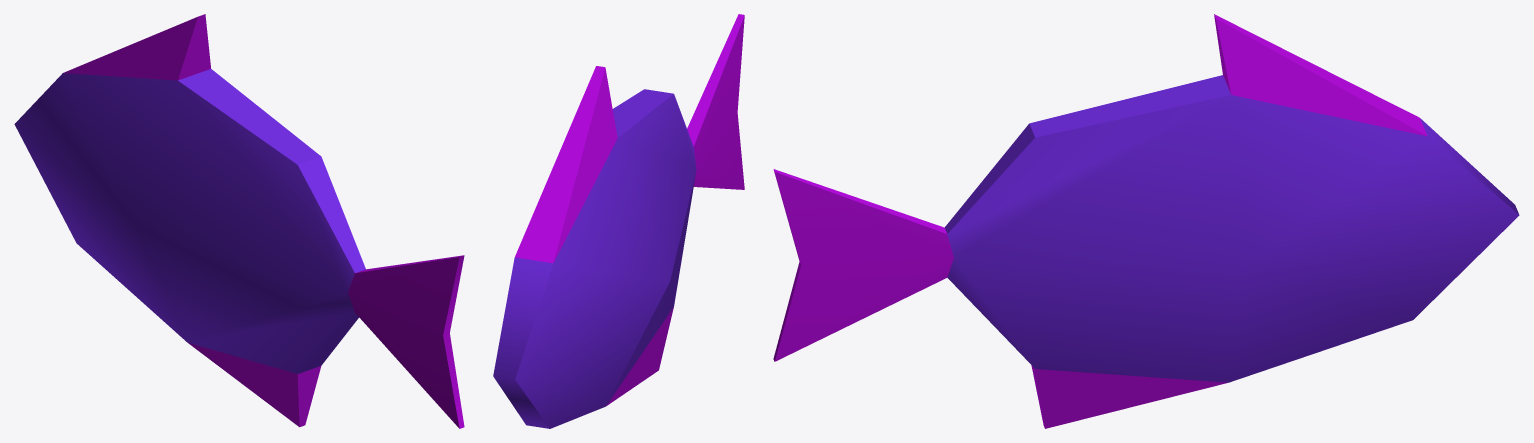
Rendered from fish04.glb.
3 renders of one model, left to right at view 1: azimuth 30°, elevation 25°; view 2: azimuth 150°, elevation 25°; view 3: azimuth 270°, elevation 25°, orthographic. The views are drawn at different scales.
Parts seen in each view (by area): view 1: fish04, Box031; view 2: fish04, Box031; view 3: fish04, Box031.
Part boxes in pixels (x1=…): fish04: x1=14, y1=69, x2=365, y2=373; Box031: x1=63, y1=14, x2=464, y2=428; fish04: x1=493, y1=89, x2=696, y2=428; Box031: x1=515, y1=14, x2=744, y2=405; fish04: x1=944, y1=75, x2=1519, y2=382; Box031: x1=773, y1=14, x2=1427, y2=428.
Size of the model in its own units: 0.0986 by 0.2596 by 0.4407.
